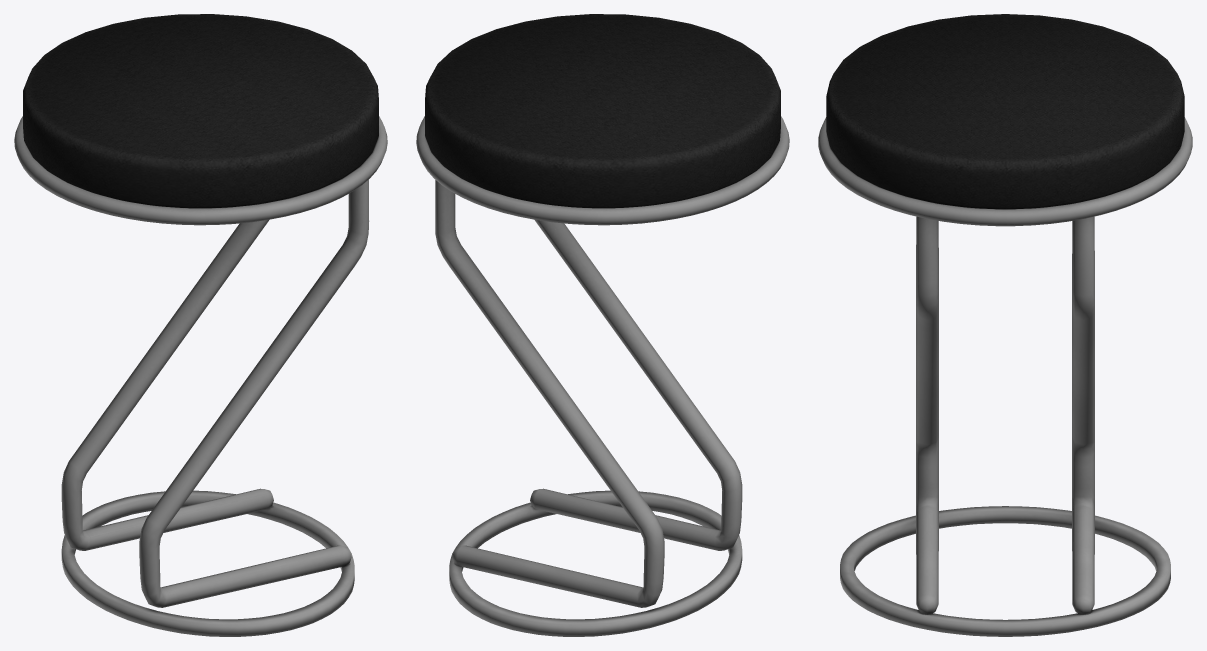
File: bar_chair.glb
The picture shows the model from 3 angles, left to right: view 1: azimuth 30°, elevation 25°; view 2: azimuth 150°, elevation 25°; view 3: azimuth 270°, elevation 25°; orthographic projection.
Parts seen in each view (by area): view 1: Object_2; view 2: Object_2; view 3: Object_2.
Part boxes in pixels (<box>): Object_2: <box>14,14,387,636</box>; Object_2: <box>416,14,789,636</box>; Object_2: <box>818,14,1192,636</box>.
Size of the model in its own units: 0.7968 by 1.14 by 0.7968.
1 material, 1 textured.
